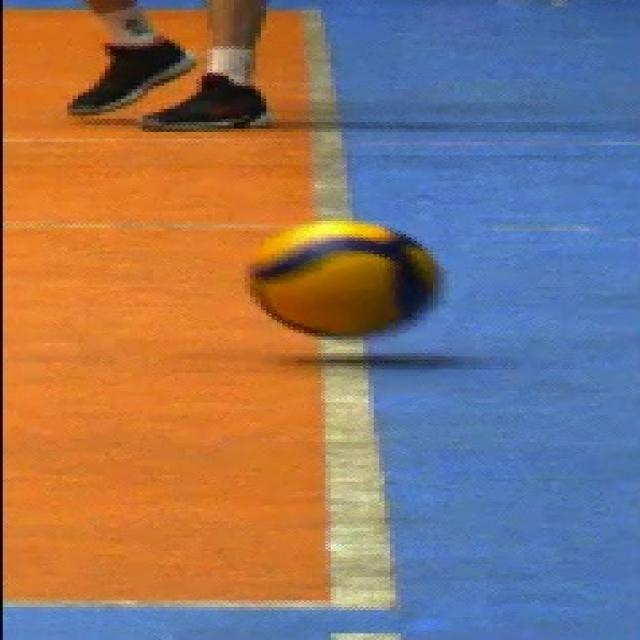Volleyball: (248, 220, 442, 336)
